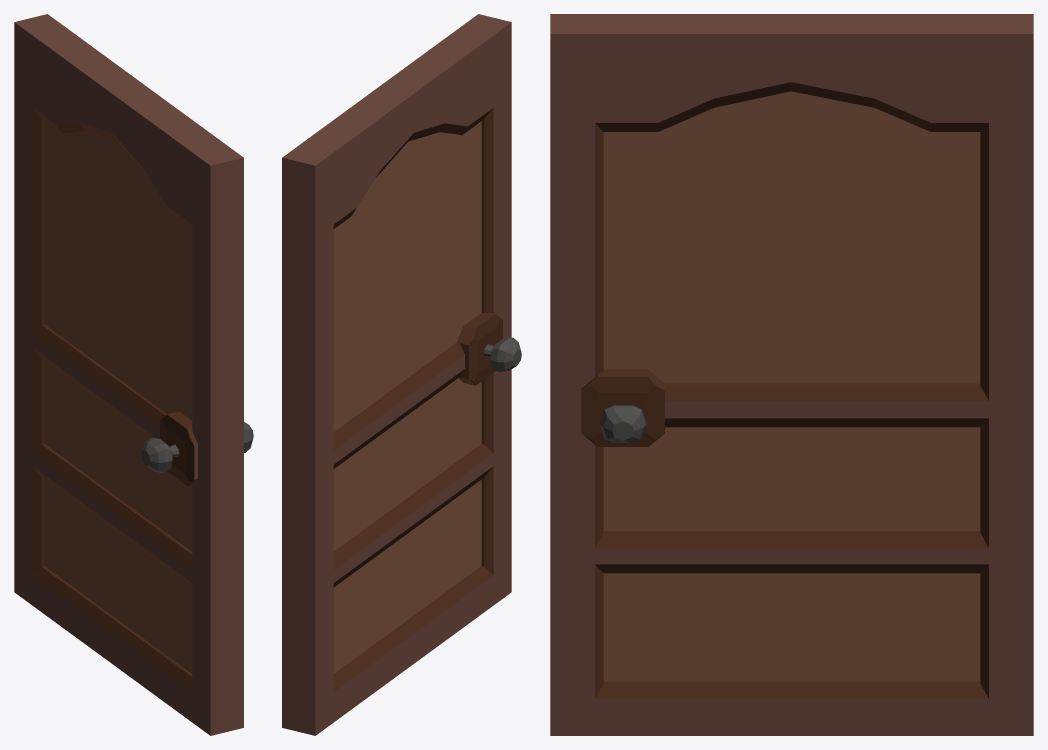
The model's file is door.fbx.
3 views of the same model, side by side, from view 1: azimuth 30°, elevation 25°; view 2: azimuth 150°, elevation 25°; view 3: azimuth 270°, elevation 25° (orthographic). The views are drawn at different scales.
Parts seen in each view (by area): view 1: Door; view 2: Door; view 3: Door.
Part boxes in pixels (x1,y1,x2,y2): Door: (14, 14, 253, 735); Door: (282, 14, 521, 735); Door: (550, 14, 1033, 735).
Bounding box in the file's own units: 50.07 × 263 × 164.
